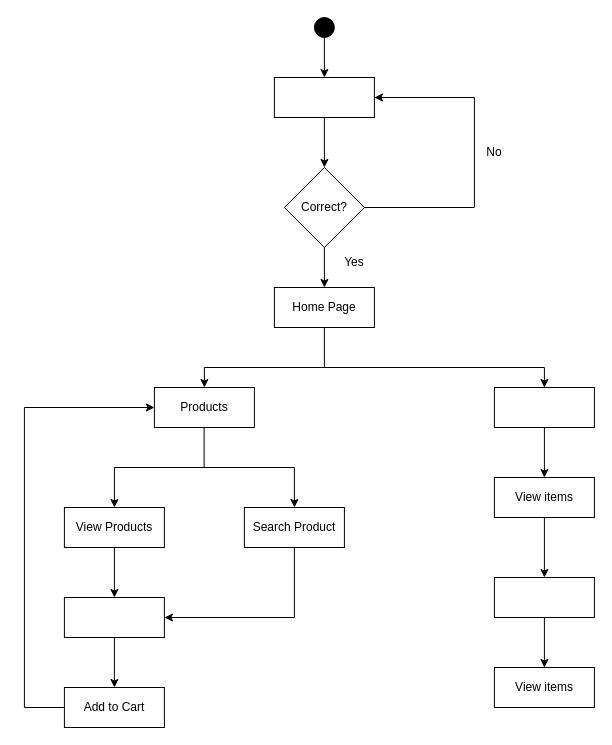
Image size: 612x745. Some labels were removed from this diagram. The centre of each missing label's shape, as x and y in pixels:
Cart: (x=543, y=407)
Login: (x=323, y=97)
Proceed to Checkout: (x=543, y=597)
Select Product: (x=113, y=617)
